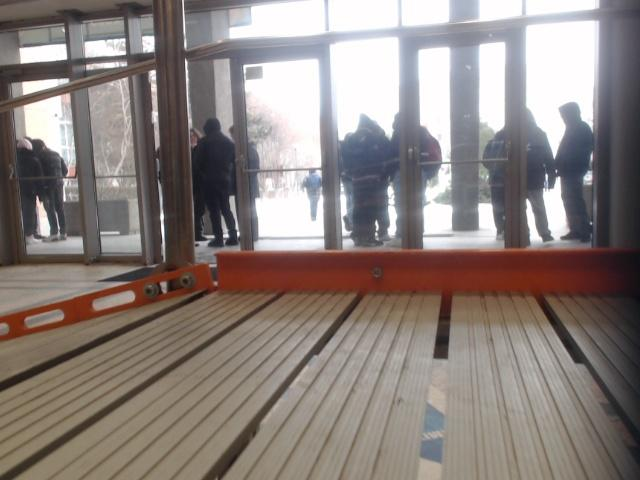rampDown: (0, 250, 639, 479)
ramps-railing: (178, 17, 550, 61), (1, 48, 171, 112), (153, 0, 194, 264), (558, 8, 639, 21)
